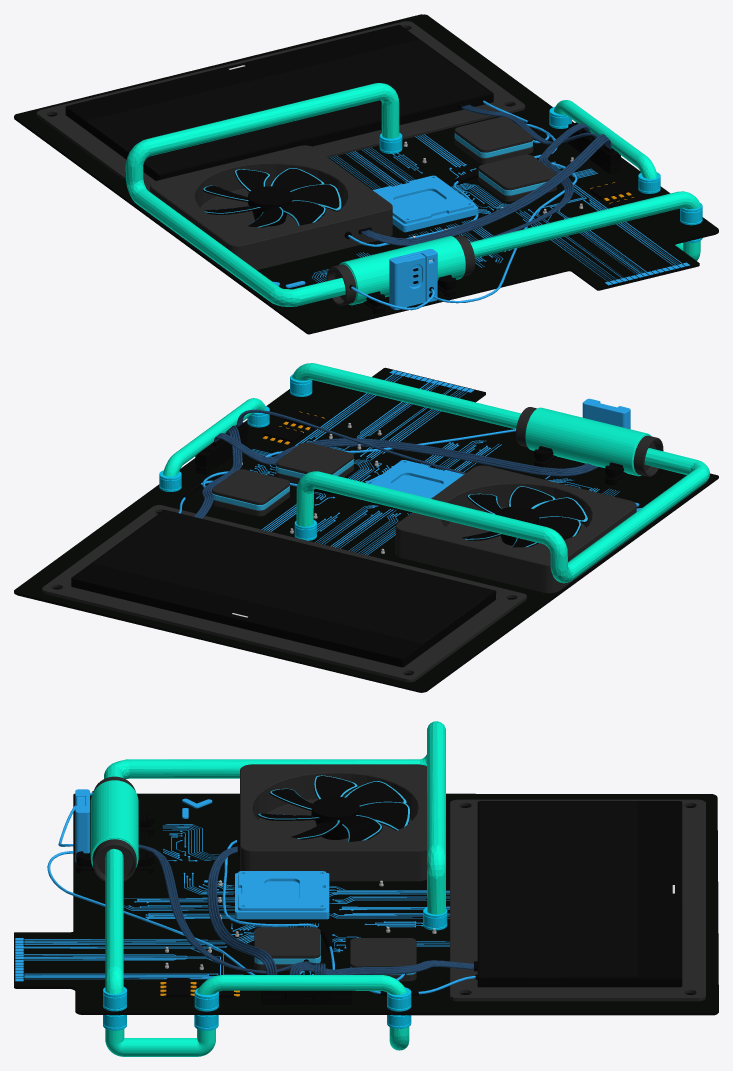
3 views of the same model, one above another, from view 1: azimuth 30°, elevation 25°; view 2: azimuth 150°, elevation 25°; view 3: azimuth 270°, elevation 25° (orthographic). The views are drawn at different scales.
Visible parts, largest first — view 1: bool_obj.frozen.frozen, Cube.frozen.frozen.frozen, bool_obj.017.frozen.frozen.frozen.frozen, Pipe.003.frozen.frozen, bool_obj.008.frozen.frozen.frozen, Circle.001_Circle.003.frozen.frozen.frozen, bool_obj.023.frozen.frozen.frozen, Pipe.001.frozen.frozen, bool_obj.006.frozen.frozen.frozen, ARRAY_CIRCLE_mesh.frozen.frozen.frozen, bool_obj.055.frozen.frozen.frozen, Curve.frozen.001.frozen (+9 smaller); view 2: bool_obj.frozen.frozen, Cube.frozen.frozen.frozen, bool_obj.017.frozen.frozen.frozen.frozen, bool_obj.008.frozen.frozen.frozen, Pipe.003.frozen.frozen, bool_obj.023.frozen.frozen.frozen, Pipe.001.frozen.frozen, Circle.001_Circle.003.frozen.frozen.frozen, ARRAY_CIRCLE_mesh.001.frozen, Curve.frozen.001.frozen, bool_obj.014.frozen.frozen.frozen.frozen, bool_obj.006.frozen.frozen.frozen (+8 smaller); view 3: bool_obj.frozen.frozen, Cube.frozen.frozen.frozen, bool_obj.017.frozen.frozen.frozen.frozen, bool_obj.008.frozen.frozen.frozen, Pipe.003.frozen.frozen, Circle.001_Circle.003.frozen.frozen.frozen, bool_obj.006.frozen.frozen.frozen, Curve.frozen.001.frozen, bool_obj.023.frozen.frozen.frozen, Curve.003.frozen.frozen.frozen, Pipe.004.frozen.frozen, Pipe.001.frozen.frozen (+13 smaller).
Part boxes in pixels (x1,y1,x2,y2): bool_obj.frozen.frozen: [14, 14, 718, 334]; Cube.frozen.frozen.frozen: [65, 25, 493, 180]; bool_obj.017.frozen.frozen.frozen.frozen: [150, 145, 392, 272]; Pipe.003.frozen.frozen: [125, 83, 399, 306]; bool_obj.008.frozen.frozen.frozen: [36, 21, 525, 191]; Circle.001_Circle.003.frozen.frozen.frozen: [202, 168, 341, 227]; bool_obj.023.frozen.frozen.frozen: [326, 235, 475, 305]; Pipe.001.frozen.frozen: [470, 191, 700, 258]; bool_obj.006.frozen.frozen.frozen: [373, 175, 478, 232]; ARRAY_CIRCLE_mesh.frozen.frozen.frozen: [361, 134, 611, 246]; bool_obj.055.frozen.frozen.frozen: [389, 249, 437, 310]; Curve.frozen.001.frozen: [330, 134, 511, 267]; bool_obj.frozen.frozen: [14, 367, 718, 692]; Cube.frozen.frozen.frozen: [71, 510, 496, 667]; bool_obj.017.frozen.frozen.frozen.frozen: [395, 465, 636, 593]; bool_obj.008.frozen.frozen.frozen: [42, 505, 526, 682]; Pipe.003.frozen.frozen: [296, 448, 709, 583]; bool_obj.023.frozen.frozen.frozen: [516, 407, 663, 476]; Pipe.001.frozen.frozen: [292, 363, 521, 429]; Circle.001_Circle.003.frozen.frozen.frozen: [462, 486, 588, 547]; ARRAY_CIRCLE_mesh.001.frozen: [214, 433, 598, 476]; Curve.frozen.001.frozen: [262, 440, 501, 555]; bool_obj.014.frozen.frozen.frozen.frozen: [212, 469, 289, 516]; bool_obj.006.frozen.frozen.frozen: [369, 460, 463, 498]; bool_obj.frozen.frozen: [14, 793, 718, 1015]; Cube.frozen.frozen.frozen: [477, 801, 682, 987]; bool_obj.017.frozen.frozen.frozen.frozen: [240, 764, 426, 881]; bool_obj.008.frozen.frozen.frozen: [450, 799, 705, 1001]; Pipe.003.frozen.frozen: [104, 721, 445, 914]; Circle.001_Circle.003.frozen.frozen.frozen: [257, 775, 410, 841]; bool_obj.006.frozen.frozen.frozen: [235, 871, 329, 919]; Curve.frozen.001.frozen: [123, 872, 449, 952]; bool_obj.023.frozen.frozen.frozen: [90, 776, 138, 881]; Curve.003.frozen.frozen.frozen: [23, 939, 243, 979]; Pipe.004.frozen.frozen: [197, 975, 406, 994]; Pipe.001.frozen.frozen: [105, 848, 123, 1009].
Bounding box in the file's own units: 8.09 × 2.06 × 10.63.
